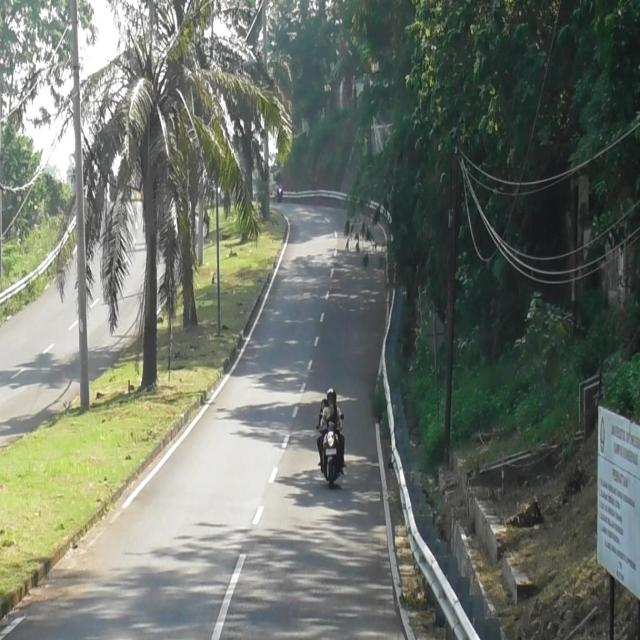motorcycle: (316, 418, 346, 489), (275, 184, 286, 204)
person: (321, 390, 344, 434), (327, 404, 340, 429), (318, 398, 328, 417), (274, 168, 284, 185)
rider_region: (312, 390, 351, 490), (272, 163, 286, 203)
